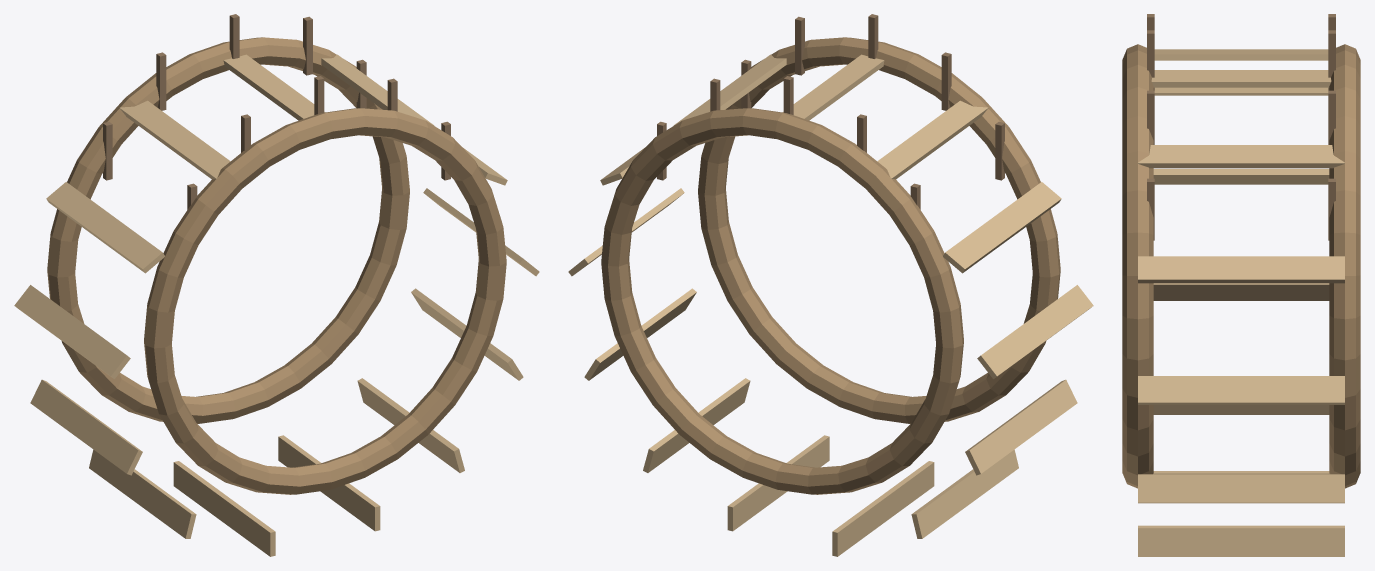
File: arch_bridge.glb
The picture shows the model from 3 angles, left to right: view 1: azimuth 30°, elevation 25°; view 2: azimuth 150°, elevation 25°; view 3: azimuth 270°, elevation 25°; orthographic projection. The views are drawn at different scales.
Visible parts, largest first — view 1: ArchBridge; view 2: ArchBridge; view 3: ArchBridge.
Boxes of the visible parts, x1,y1,x2,y2 form: ArchBridge: [14, 14, 539, 556]; ArchBridge: [568, 14, 1093, 556]; ArchBridge: [1122, 14, 1360, 556].
Size of the model in its own units: 4.1 by 4.21 by 1.84.
